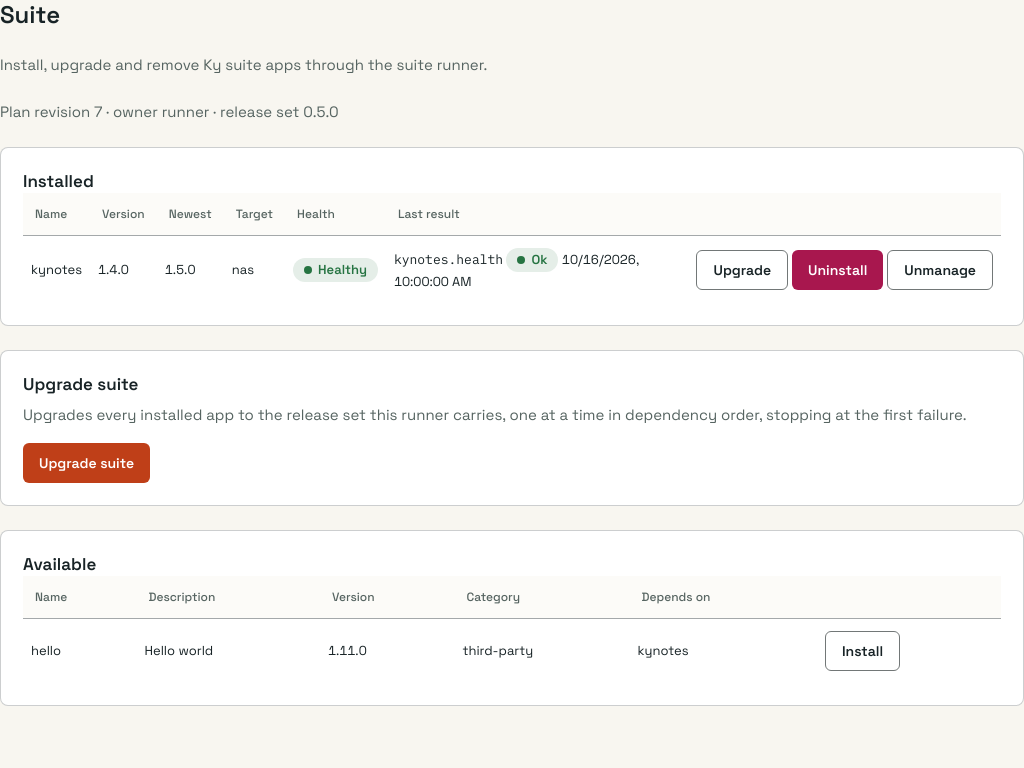
requires the typed app name, then posts the install with password, code and CSRF and clears the secrets
Click the button with aria-label "Install hello": click(862, 651) [825,631,900,671]
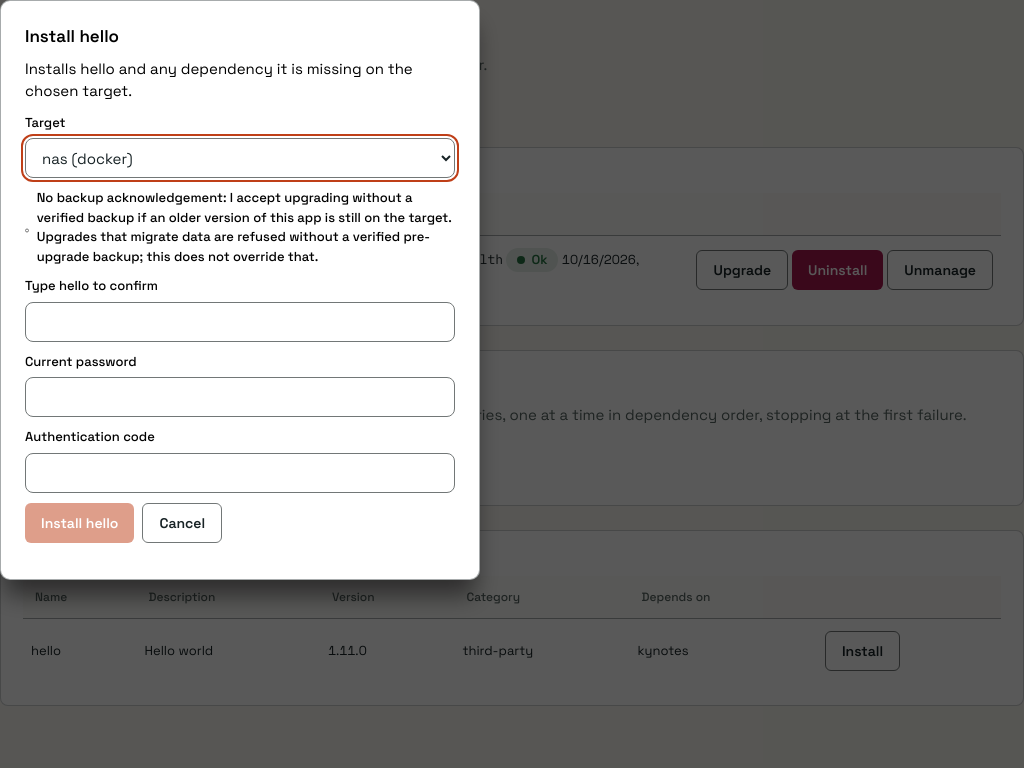
Select "k3s (kubernetes)" in the dropdown labelled "Target": (240, 158) [25,138,455,178]
In the password field labelled "Current password": (240, 397) [25,377,455,417], type "pw-123"
In the field labelled "Authentication code": (240, 473) [25,453,455,493], type "123456"
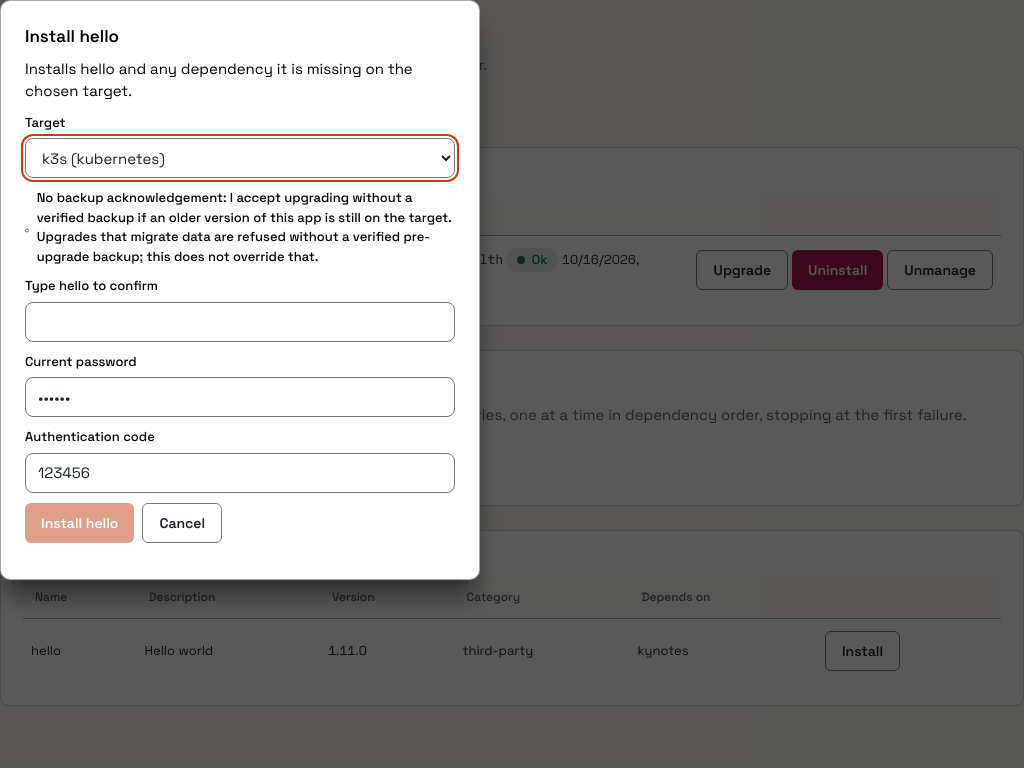
Click the checkbox labelled "No backup acknowledgement": click(27, 230) [25,224,29,237]
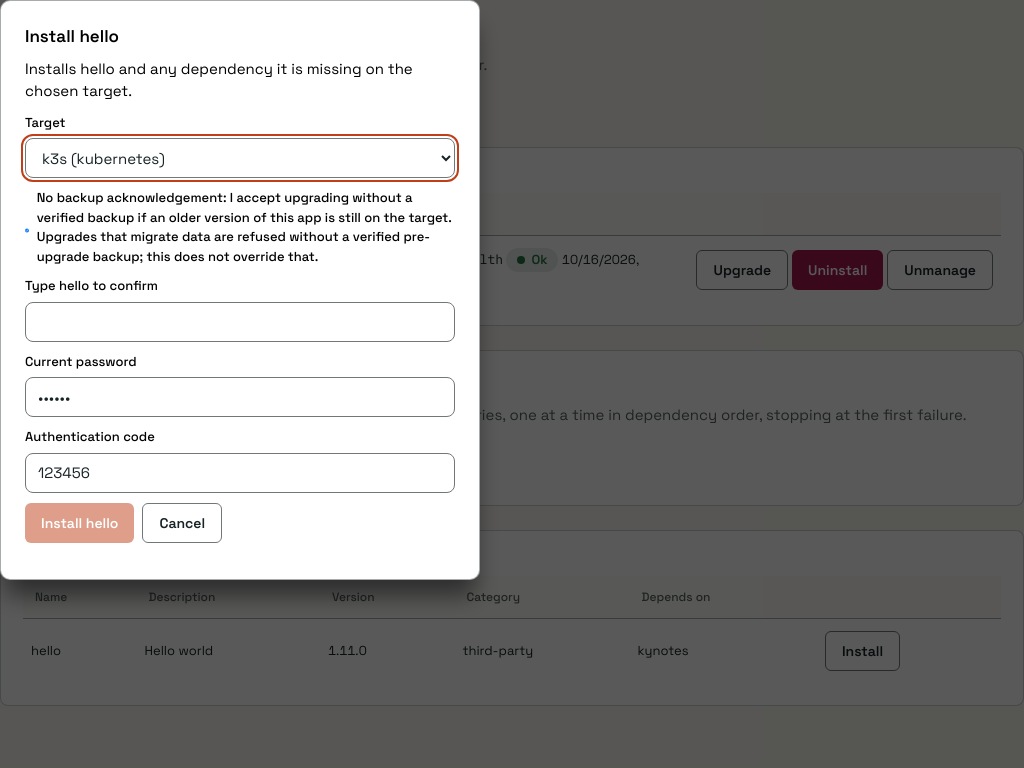
In the field labelled "Type hello to confirm": (240, 322) [25,302,455,342], type "hell"
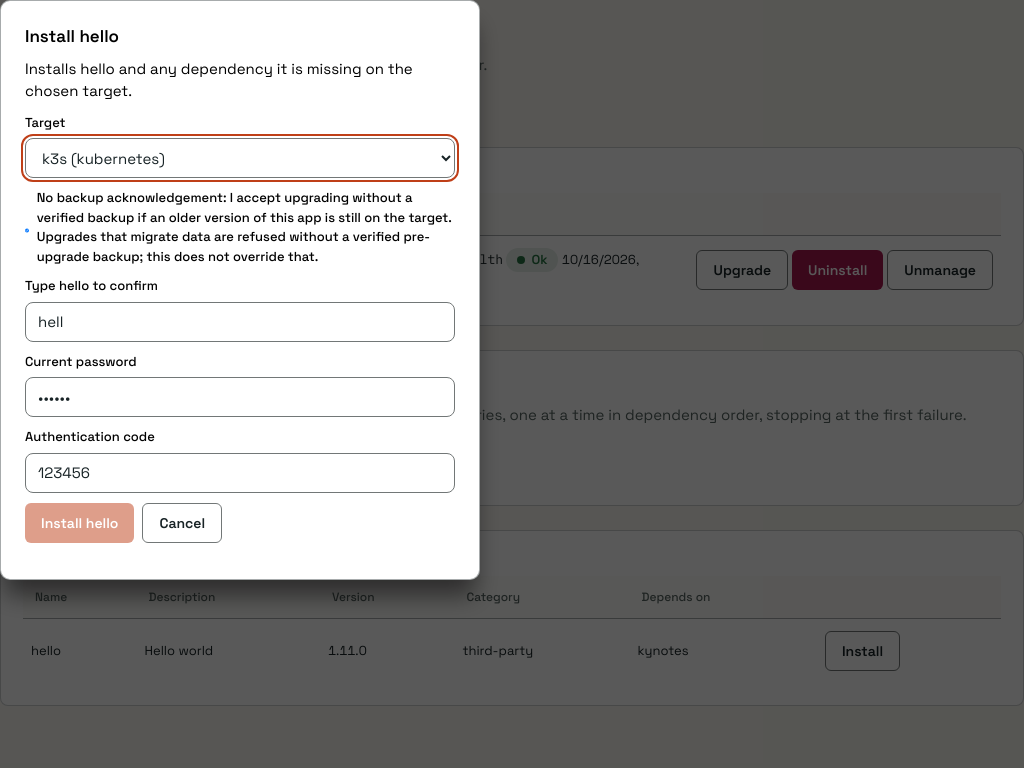
Check: the button "Install hello" is disabled, box [25,503,134,543]
Replace the text in the field labelled "Type hello to confirm" with "hello": (240, 322) [25,302,455,342]
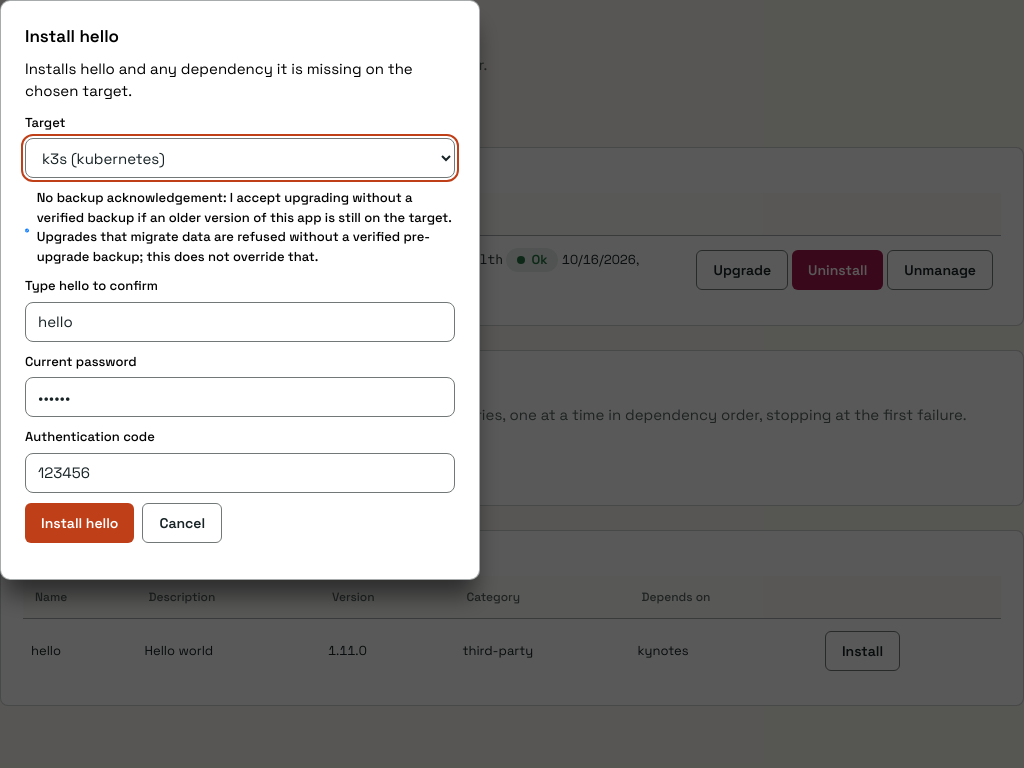
Check: the button "Install hello" is enabled
Click the button "Install hello": click(80, 523) [25,503,134,543]
(page scrolled)
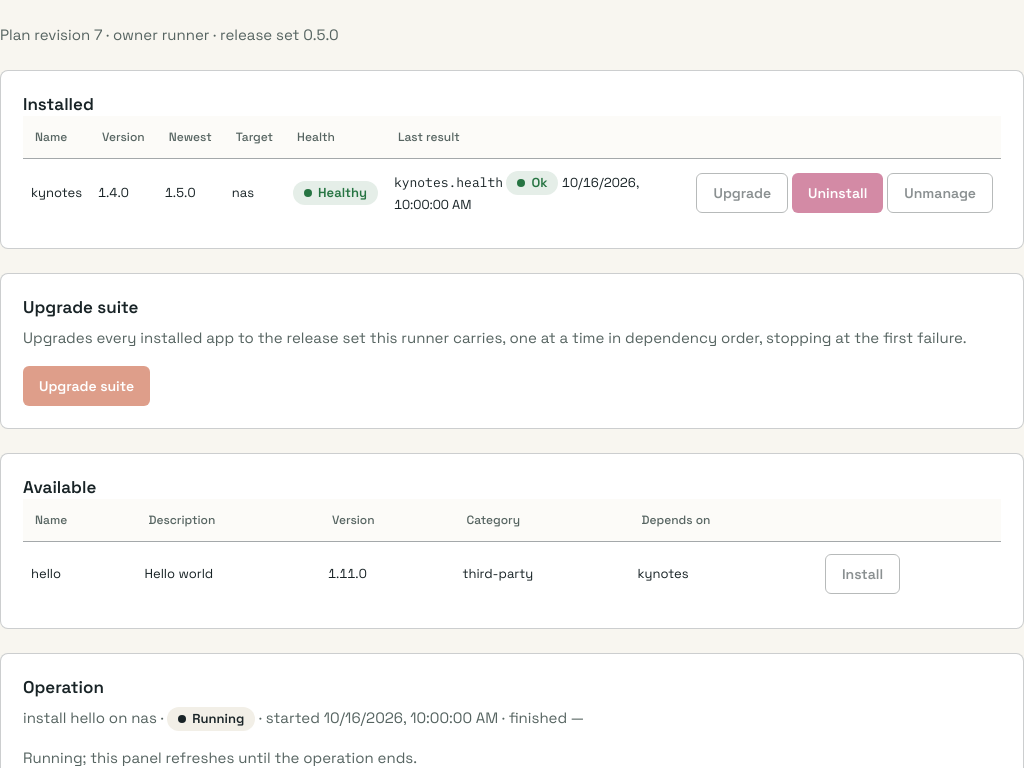
Check: the heading "Operation" is shown, box [23,676,104,698]
